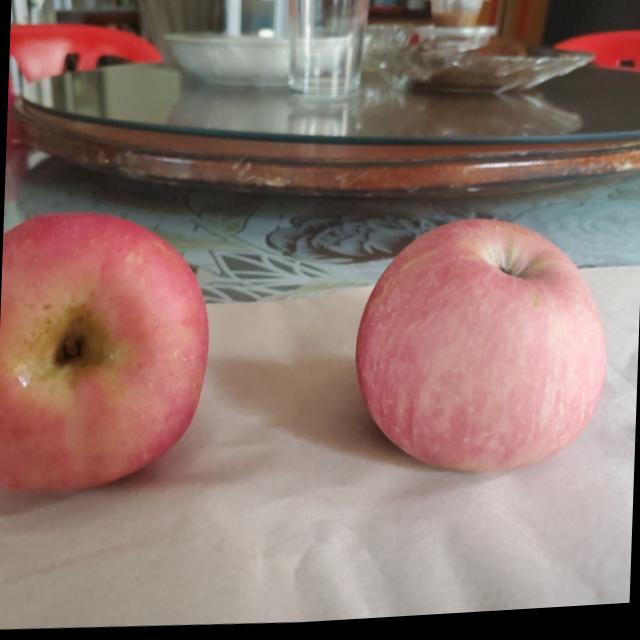apple: (355, 218, 616, 495), (0, 208, 209, 507)
